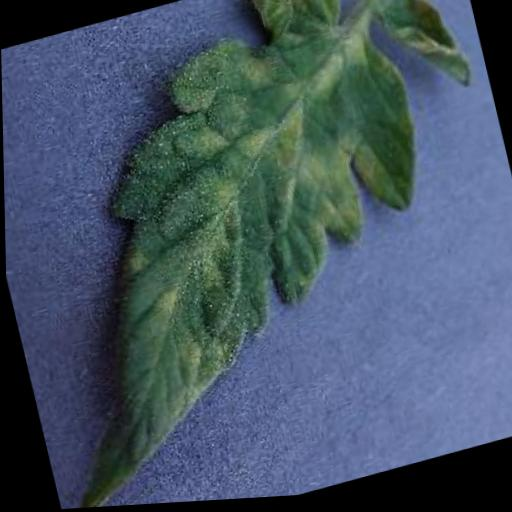Leaf Mold: (0, 0, 487, 512)
